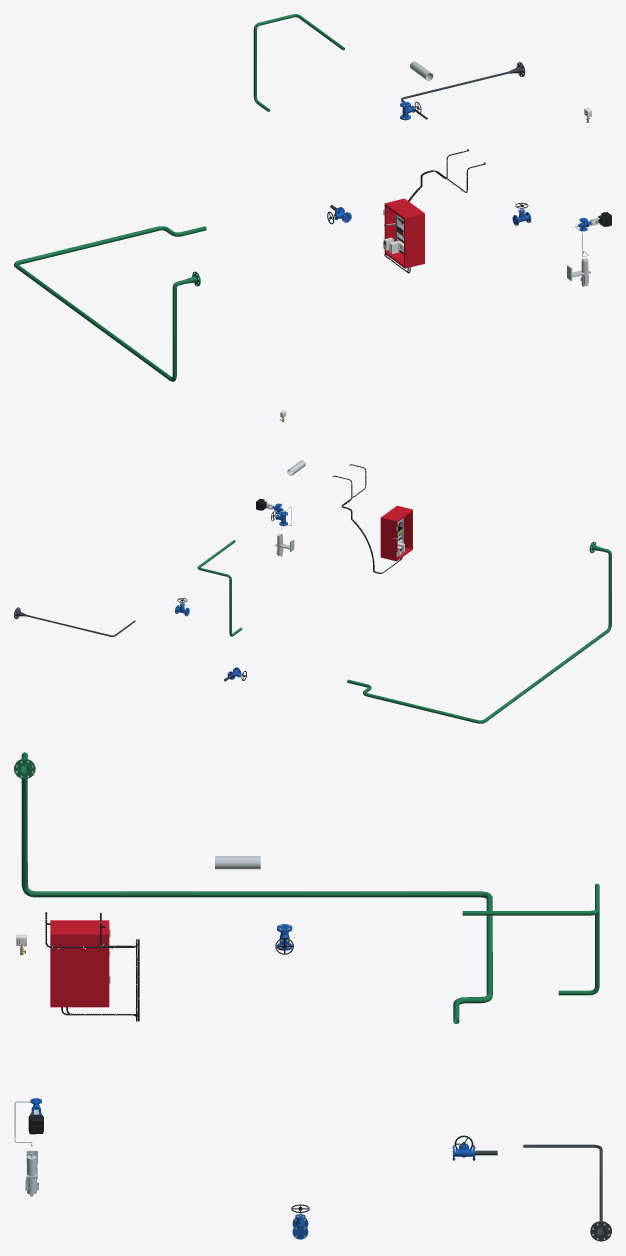
3 views of the same model, one above another, from view 1: azimuth 30°, elevation 25°; view 2: azimuth 150°, elevation 25°; view 3: azimuth 270°, elevation 25° (orthographic). The views are drawn at different scales.
Visible parts, largest first — view 1: deaerator_feed / green, control_cabinet / control_cabinet_0.npz, from_economizer / green; view 2: deaerator_feed / green, control_cabinet / control_cabinet_0.npz, from_economizer / green; view 3: deaerator_feed / green, control_cabinet / control_cabinet_0.npz, from_economizer / green, tds_to_fv / dark.
Boxes of the visible parts, x1,y1,x2,y2 form: deaerator_feed / green: [14, 226, 206, 381]; control_cabinet / control_cabinet_0.npz: [383, 198, 424, 268]; from_economizer / green: [253, 14, 344, 111]; deaerator_feed / green: [347, 541, 611, 723]; control_cabinet / control_cabinet_0.npz: [380, 505, 412, 561]; from_economizer / green: [197, 540, 242, 636]; deaerator_feed / green: [14, 752, 492, 1023]; control_cabinet / control_cabinet_0.npz: [50, 920, 110, 1007]; from_economizer / green: [462, 883, 599, 995]; tds_to_fv / dark: [523, 1144, 611, 1241].
Size of the model in its own units: 8.21 by 3.02 by 5.37.
